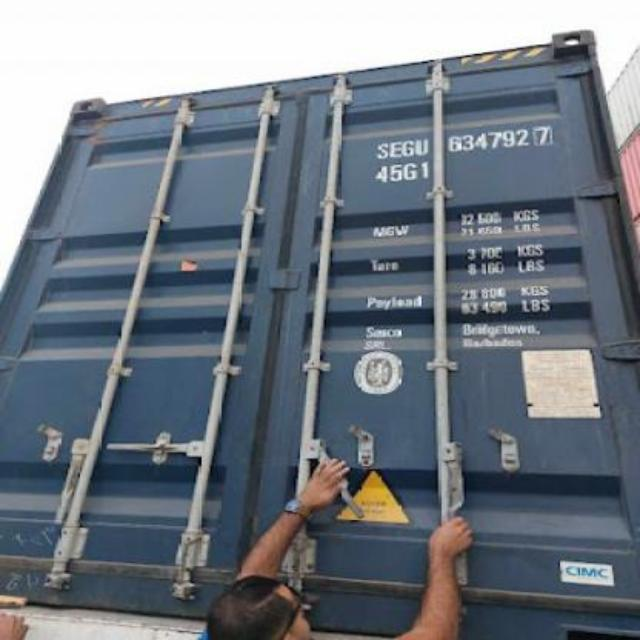2: (516, 122, 530, 154)
3: (461, 128, 474, 156)
4: (474, 128, 488, 156)
6: (446, 131, 459, 155)
7: (532, 122, 556, 148), (486, 126, 499, 152)
9: (500, 124, 516, 152)
E: (388, 136, 400, 162)
G: (401, 130, 414, 160)
S: (376, 136, 388, 166)
U: (414, 133, 428, 157)
